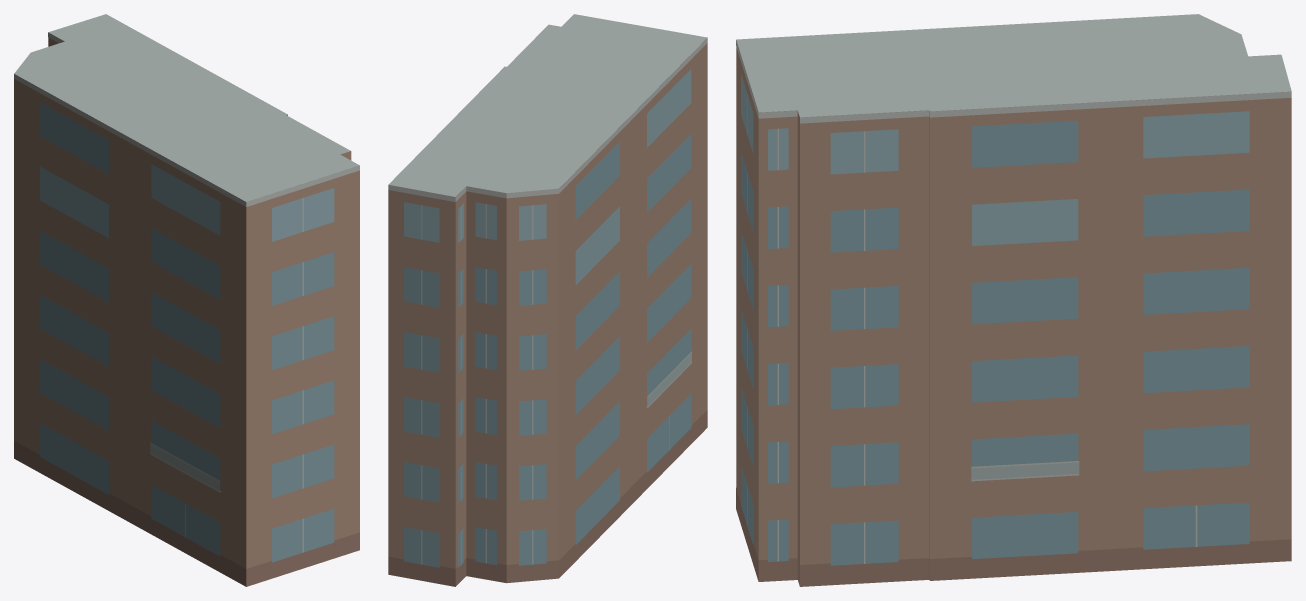
File: survey-upis-32745685.glb
3 renders of one model, left to right at view 1: azimuth 30°, elevation 25°; view 2: azimuth 150°, elevation 25°; view 3: azimuth 270°, elevation 25°, orthographic. The views are drawn at different scales.
Visible parts, largest first — view 1: survey-upis-32745685.tmp; view 2: survey-upis-32745685.tmp; view 3: survey-upis-32745685.tmp.
Boxes of the visible parts, x1,y1,x2,y2 form: survey-upis-32745685.tmp: [14, 14, 359, 586]; survey-upis-32745685.tmp: [388, 14, 707, 586]; survey-upis-32745685.tmp: [736, 14, 1291, 586].
Bounding box in the file's own units: 8.75 × 18.5 × 19.85.
